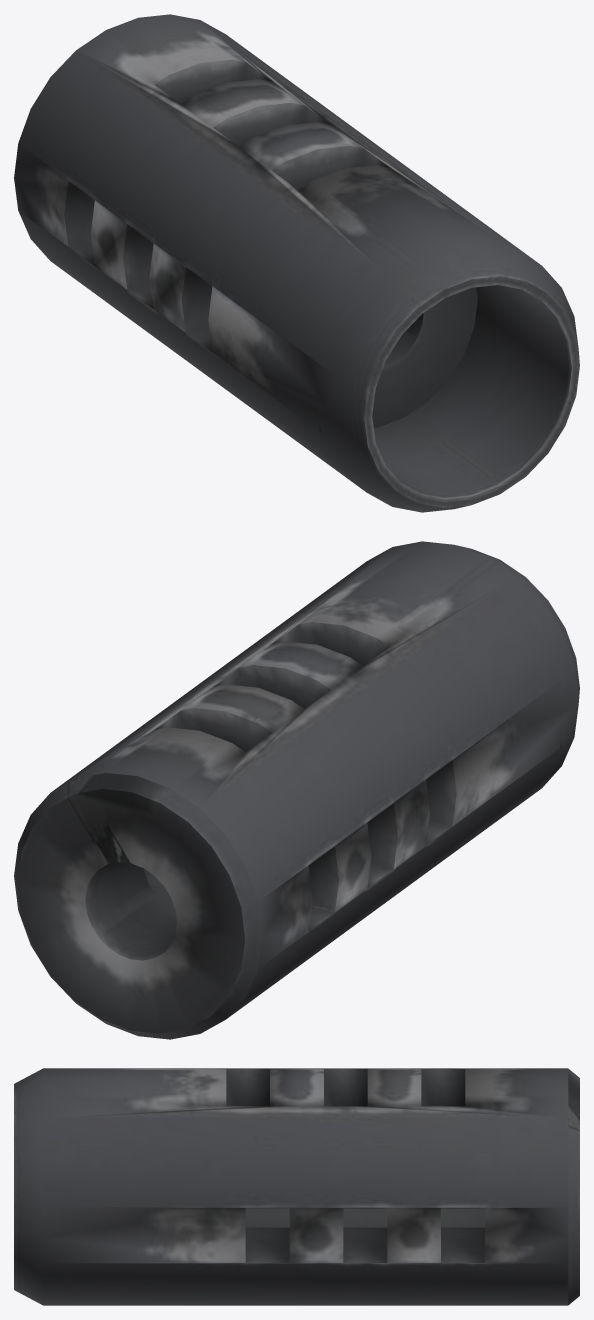
Rendered from compensator.glb.
The picture shows the model from 3 angles, top to bottom: view 1: azimuth 30°, elevation 25°; view 2: azimuth 150°, elevation 25°; view 3: azimuth 270°, elevation 25°; orthographic projection. The views are drawn at different scales.
Visible parts, largest first — view 1: body; view 2: body; view 3: body.
Part boxes in pixels (x1,y1,x2,y2): body: [14, 14, 579, 512]; body: [14, 541, 579, 1039]; body: [14, 1068, 579, 1305].
Size of the model in its own units: 0.0244 by 0.0244 by 0.058.
Materials: 1 (1 with a texture image).
